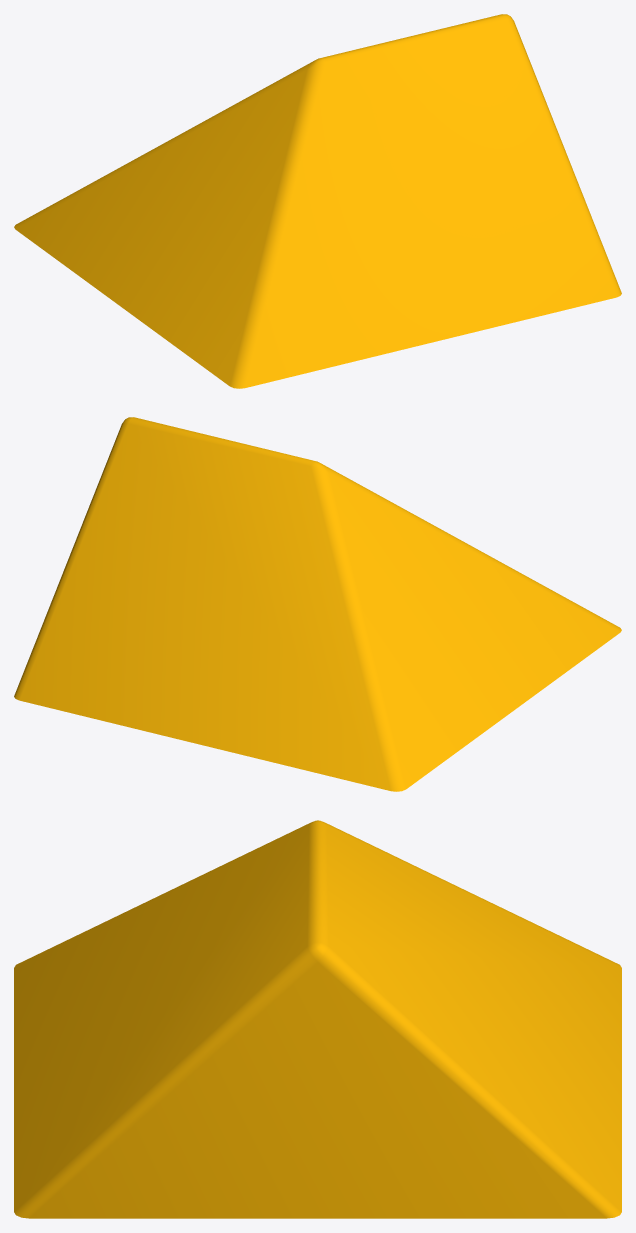
Rendered from Slanted_Roof_Half.fbx.
3 renders of one model, top to bottom at view 1: azimuth 30°, elevation 25°; view 2: azimuth 150°, elevation 25°; view 3: azimuth 270°, elevation 25°, orthographic. The views are drawn at different scales.
Parts seen in each view (by area): view 1: Slanted_Roof_Half; view 2: Slanted_Roof_Half; view 3: Slanted_Roof_Half.
Boxes of the visible parts, x1,y1,x2,y2 form: Slanted_Roof_Half: [14, 14, 621, 388]; Slanted_Roof_Half: [14, 417, 621, 791]; Slanted_Roof_Half: [14, 820, 621, 1218].
Bounding box in the file's own units: 1 × 0.4904 × 1.
